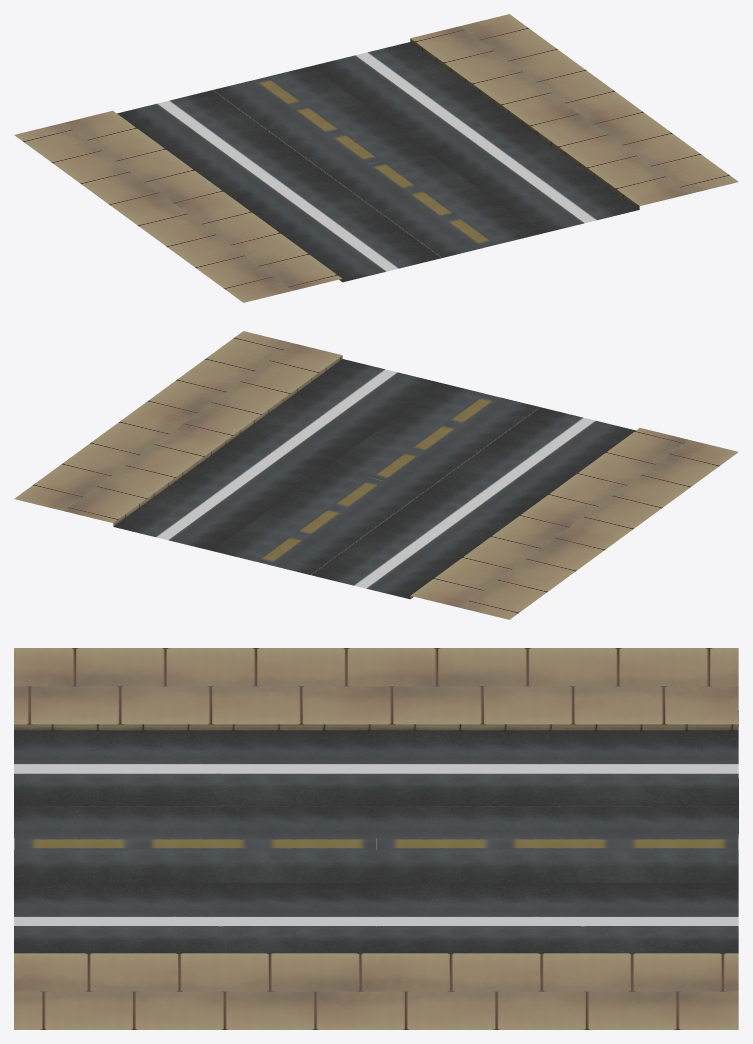
File: Road.fbx
3 views of the same model, one above another, from view 1: azimuth 30°, elevation 25°; view 2: azimuth 150°, elevation 25°; view 3: azimuth 270°, elevation 25° (orthographic). The views are drawn at different scales.
Visible parts, largest first — view 1: Road; view 2: Road; view 3: Road.
Boxes of the visible parts, left/top/right/bottom form: Road: left=14, top=14, right=738, bottom=302; Road: left=14, top=331, right=738, bottom=619; Road: left=14, top=648, right=738, bottom=1029.
Bounding box in the file's own units: 2499 × 17.58 × 2006.
